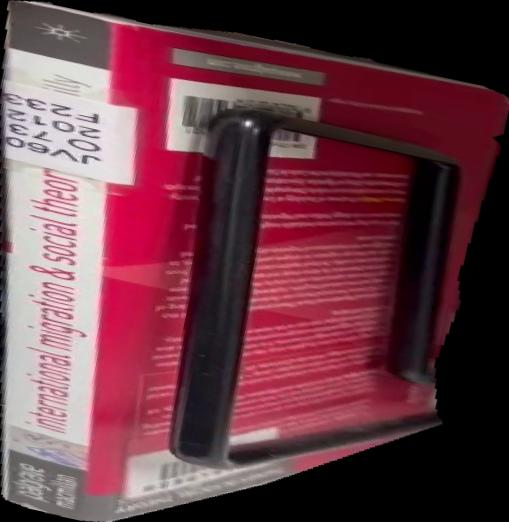reverse: (1, 1, 509, 522)
